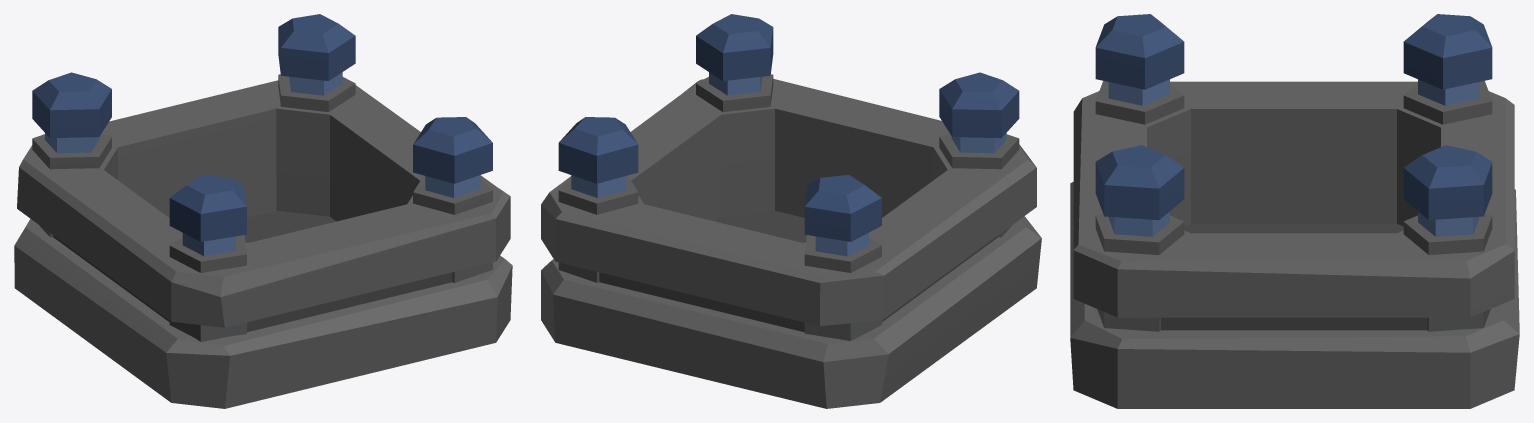
File: Scaffold_Part_Steel_C.fbx
3 views of the same model, side by side, from view 1: azimuth 30°, elevation 25°; view 2: azimuth 150°, elevation 25°; view 3: azimuth 270°, elevation 25° (orthographic). The views are drawn at different scales.
Parts seen in each view (by area): view 1: Scaffold_Part_Steel_C; view 2: Scaffold_Part_Steel_C; view 3: Scaffold_Part_Steel_C.
Boxes of the visible parts, x1,y1,x2,y2 form: Scaffold_Part_Steel_C: (14, 14, 512, 408); Scaffold_Part_Steel_C: (541, 14, 1041, 408); Scaffold_Part_Steel_C: (1070, 14, 1519, 408).
Bounding box in the file's own units: 142 × 78.43 × 142.
